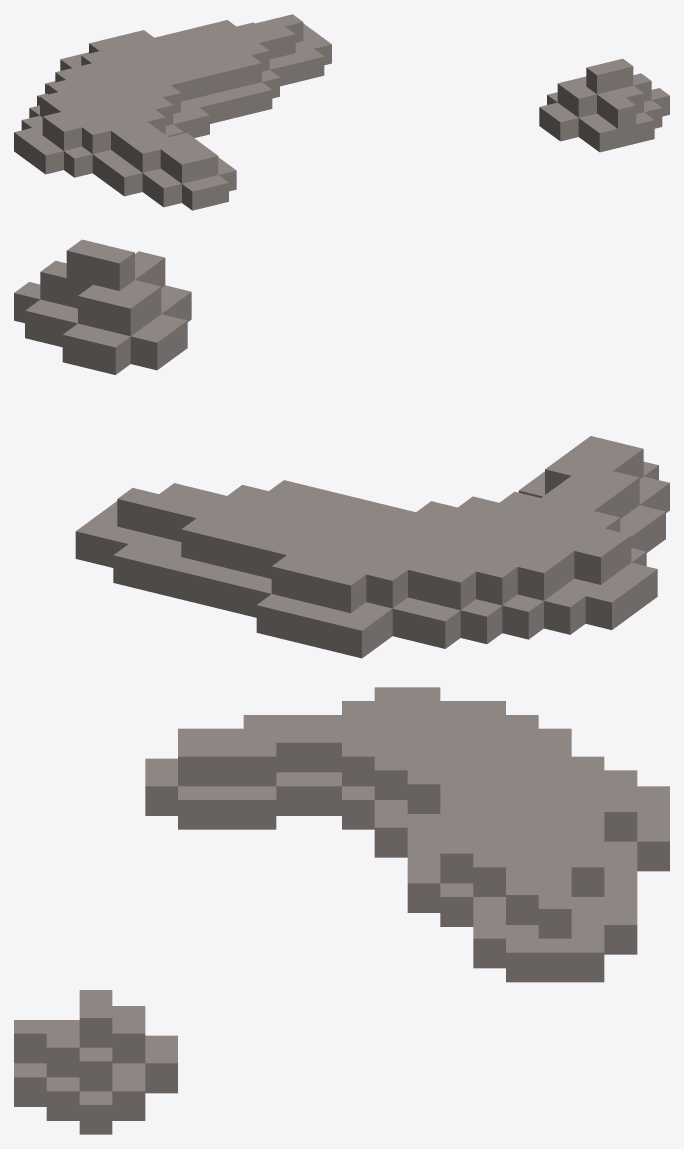
The model's file is Stones_3.obj.
3 renders of one model, top to bottom at view 1: azimuth 30°, elevation 25°; view 2: azimuth 150°, elevation 25°; view 3: azimuth 270°, elevation 25°, orthographic. The views are drawn at different scales.
Bounding box in the file's own units: 2.9 × 0.3 × 2.
1 material, 1 textured.
